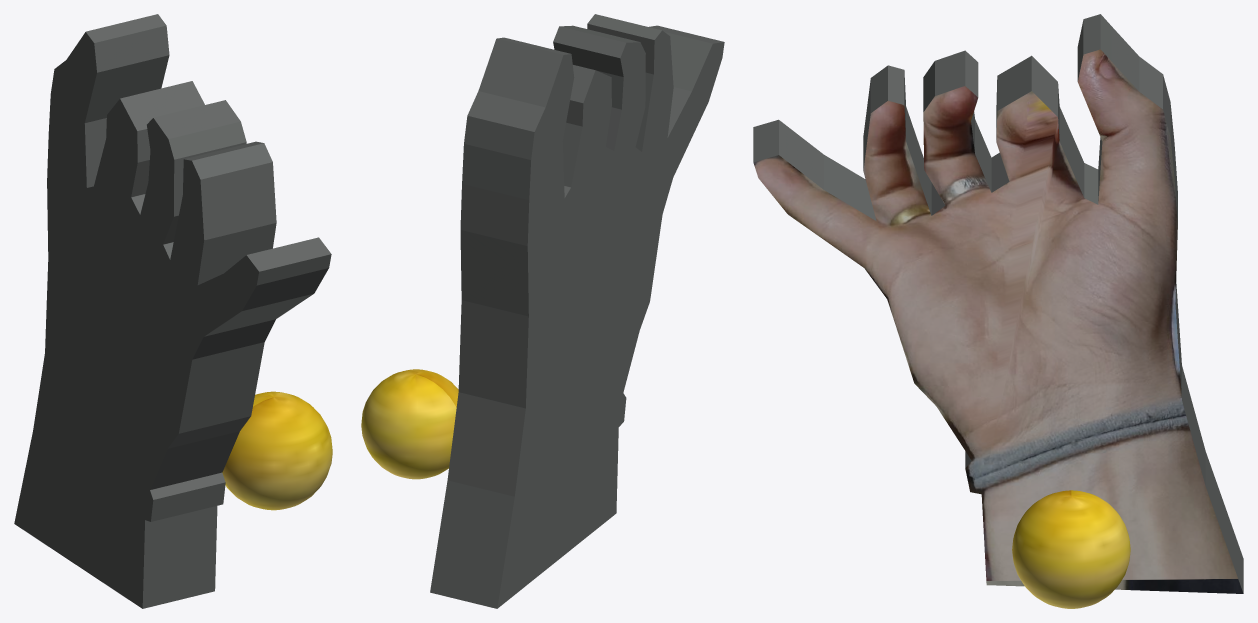
File: chesee bal game.fbx
3 renders of one model, left to right at view 1: azimuth 30°, elevation 25°; view 2: azimuth 150°, elevation 25°; view 3: azimuth 270°, elevation 25°, orthographic. The views are drawn at different scales.
Parts seen in each view (by area): view 1: Cube, Sphere; view 2: Cube, Sphere; view 3: Cube, Sphere.
Boxes of the visible parts, x1,y1,x2,y2 form: Cube: (14, 14, 331, 608); Sphere: (222, 391, 332, 510); Cube: (430, 14, 724, 608); Sphere: (361, 369, 458, 479); Cube: (753, 14, 1243, 593); Sphere: (1012, 490, 1130, 608).
Bounding box in the file's own units: 130 × 300 × 245.
